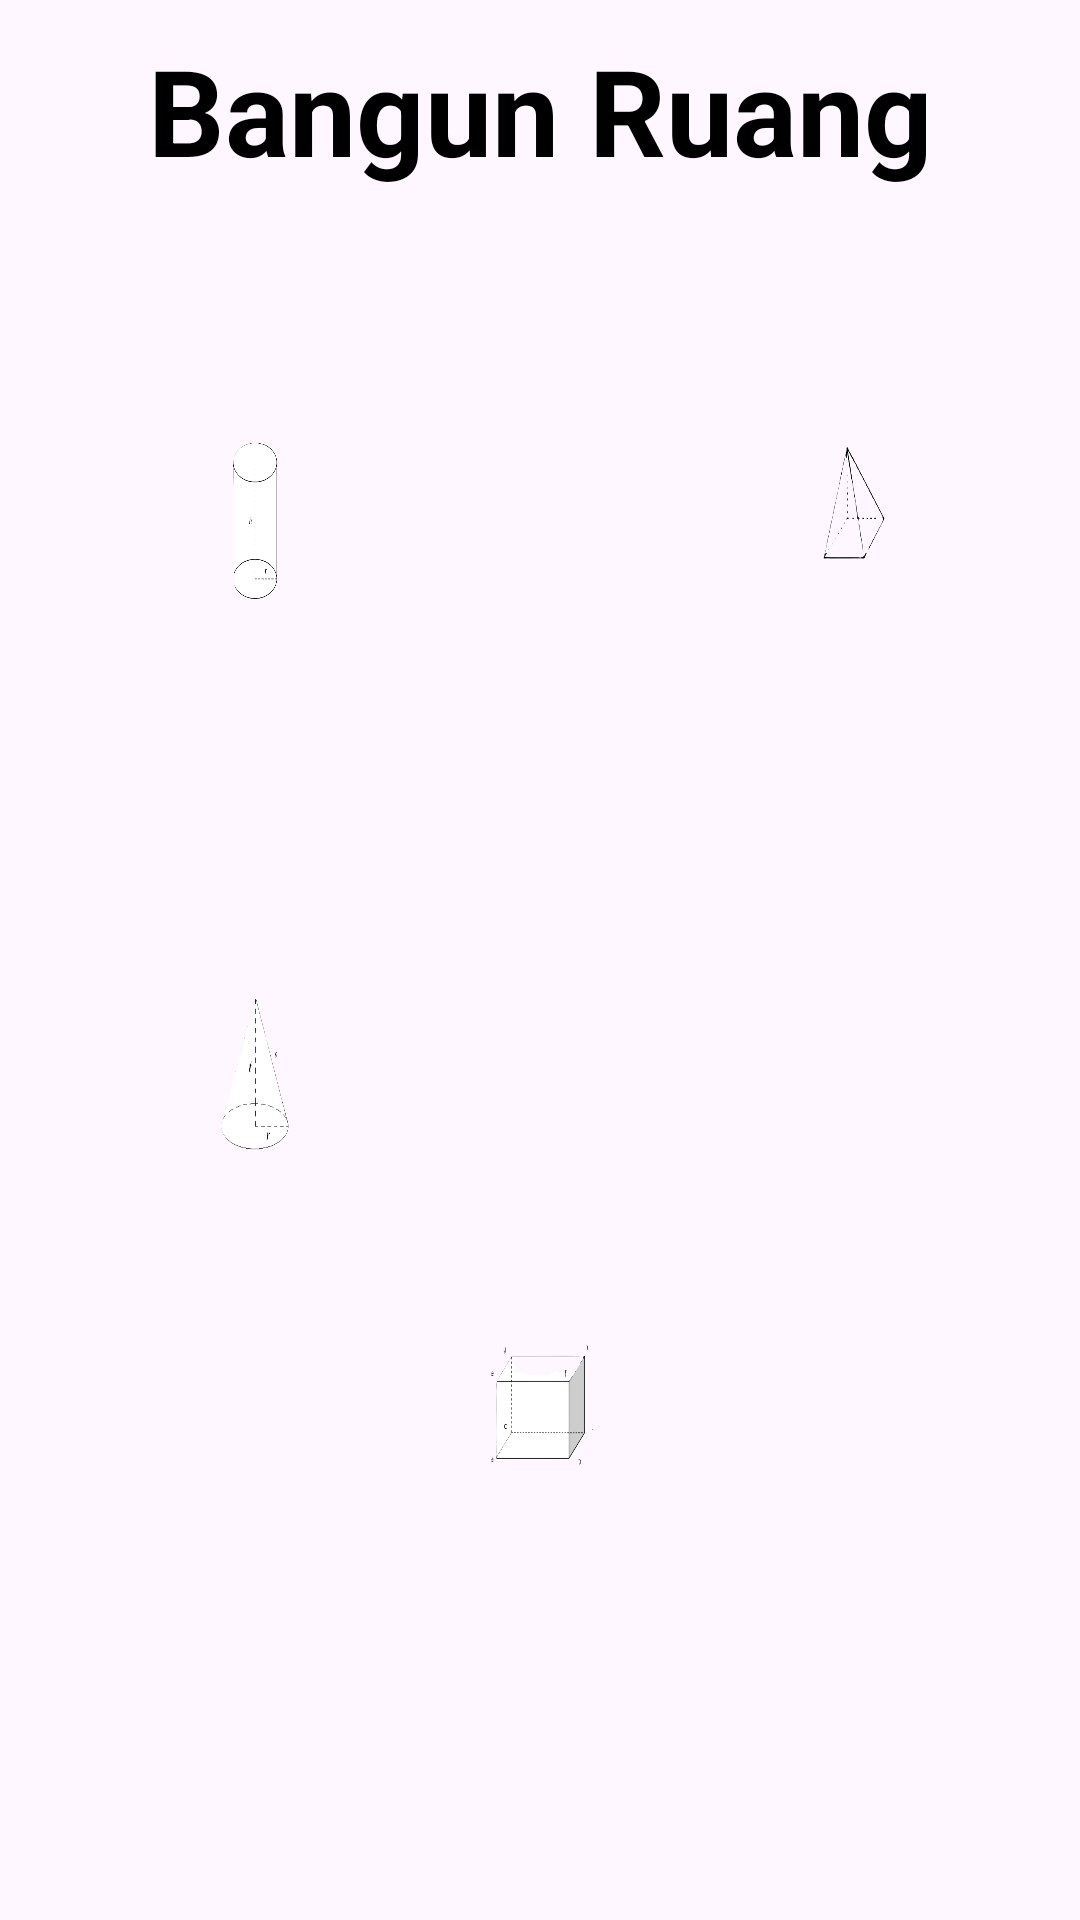

Named icons in this screenshot (1080 x 1920) and their bounding boxes, (x1, y1, x2, y2):
tabungbangun: (233, 443, 277, 599)
